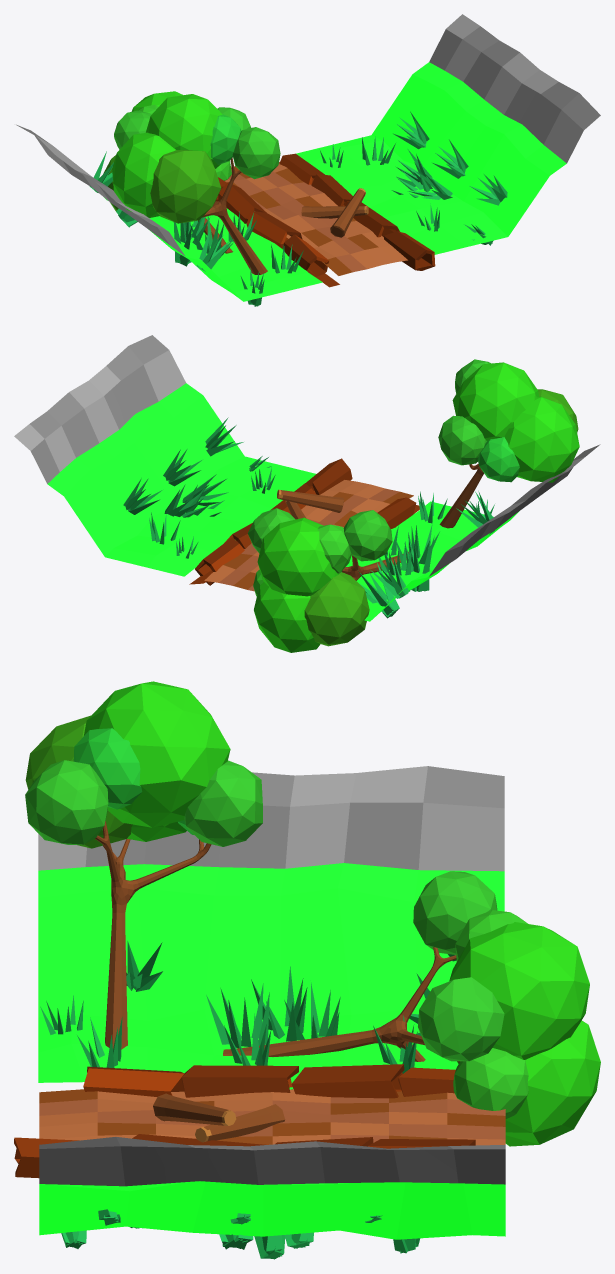
The model's file is maps2.fbx.
3 views of the same model, one above another, from view 1: azimuth 30°, elevation 25°; view 2: azimuth 150°, elevation 25°; view 3: azimuth 270°, elevation 25° (orthographic). The views are drawn at different scales.
Visible parts, largest first — view 1: Environment, road, Obstacle1, Obstacle0; view 2: Environment, Obstacle1, road, Obstacle0; view 3: Environment, Obstacle1, road, Obstacle0.
Boxes of the visible parts, left/top/right/bottom form: Environment: left=16, top=14, right=600, bottom=306; road: left=225, top=162, right=407, bottom=275; Obstacle1: left=103, top=91, right=251, bottom=253; Obstacle0: left=301, top=188, right=368, bottom=237; Environment: left=14, top=335, right=600, bottom=621; Obstacle1: left=247, top=508, right=408, bottom=652; road: left=204, top=480, right=413, bottom=591; Obstacle0: left=277, top=489, right=343, bottom=519; Environment: left=14, top=681, right=505, bottom=1259; Obstacle1: left=223, top=871, right=600, bottom=1146; road: left=39, top=1089, right=505, bottom=1145; Obstacle0: left=153, top=1093, right=285, bottom=1142.
Size of the model in its own units: 3795 by 1790 by 2518.
